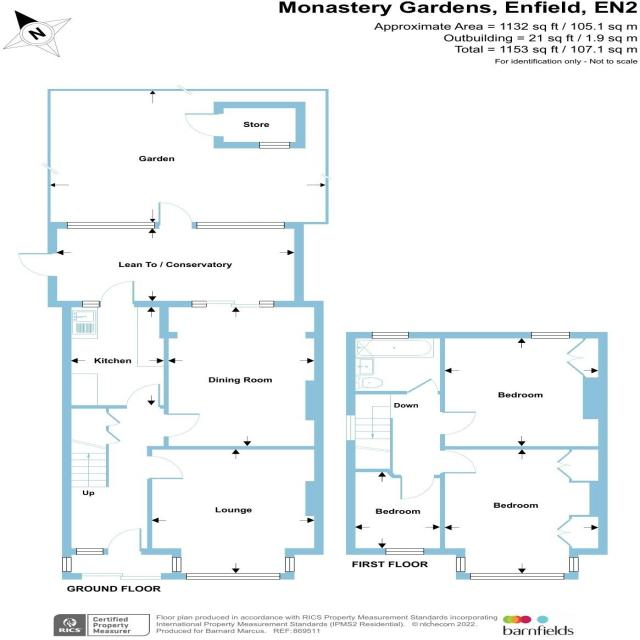DOOR: (146, 455, 185, 482), (438, 449, 478, 475), (439, 410, 478, 436), (106, 528, 143, 555), (100, 280, 135, 307), (125, 383, 161, 409), (399, 475, 436, 500), (163, 413, 201, 437), (406, 377, 439, 395)
ROOM: (159, 300, 324, 450), (147, 446, 324, 580), (439, 446, 608, 581), (440, 332, 608, 450), (62, 280, 169, 409), (346, 468, 446, 555)
WINDOW: (185, 572, 283, 581), (469, 573, 565, 580), (530, 331, 571, 339), (371, 331, 410, 339), (345, 414, 356, 442), (385, 548, 424, 555), (75, 548, 105, 556), (170, 556, 183, 573), (283, 556, 296, 573), (61, 557, 72, 573), (455, 557, 466, 572), (568, 557, 579, 572), (191, 300, 207, 307), (82, 301, 100, 307), (259, 301, 275, 307)
